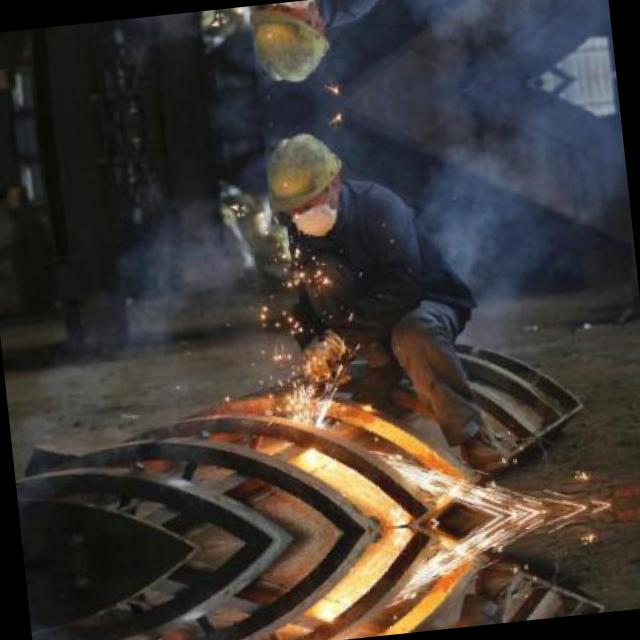helmet: (259, 122, 348, 232), (245, 0, 334, 93)
